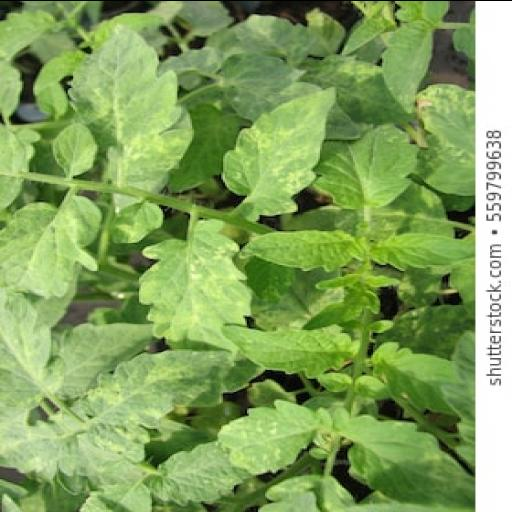disease_tomato: (68, 25, 190, 193), (221, 82, 340, 220), (138, 220, 254, 349), (331, 403, 468, 509), (34, 313, 164, 400), (92, 347, 232, 425), (0, 193, 101, 299), (320, 115, 422, 213), (210, 398, 340, 474), (220, 314, 360, 374), (373, 22, 439, 110)
